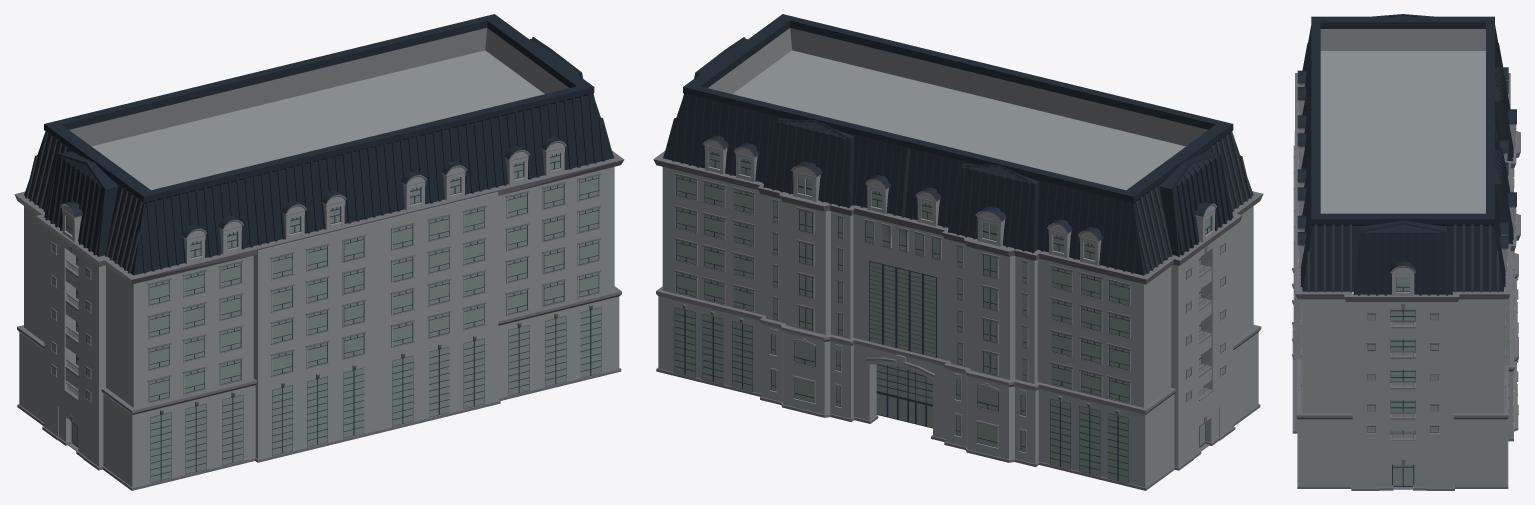
The model's file is 04_약학대학.FBX.
The picture shows the model from 3 angles, left to right: view 1: azimuth 30°, elevation 25°; view 2: azimuth 150°, elevation 25°; view 3: azimuth 270°, elevation 25°; orthographic projection. The views are drawn at different scales.
Parts seen in each view (by area): view 1: 04_약학대학; view 2: 04_약학대학; view 3: 04_약학대학.
Part boxes in pixels (bbox=[...]): 04_약학대학: bbox=[14, 14, 624, 490]; 04_약학대학: bbox=[653, 14, 1263, 490]; 04_약학대학: bbox=[1292, 14, 1520, 490].
Bounding box in the file's own units: 244 × 131 × 104.
